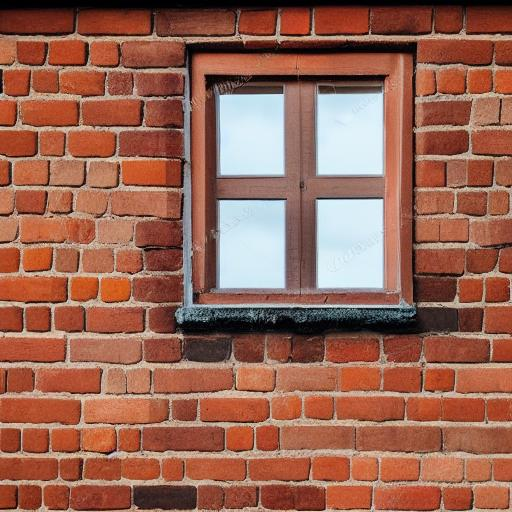Window: (176, 40, 421, 329)
